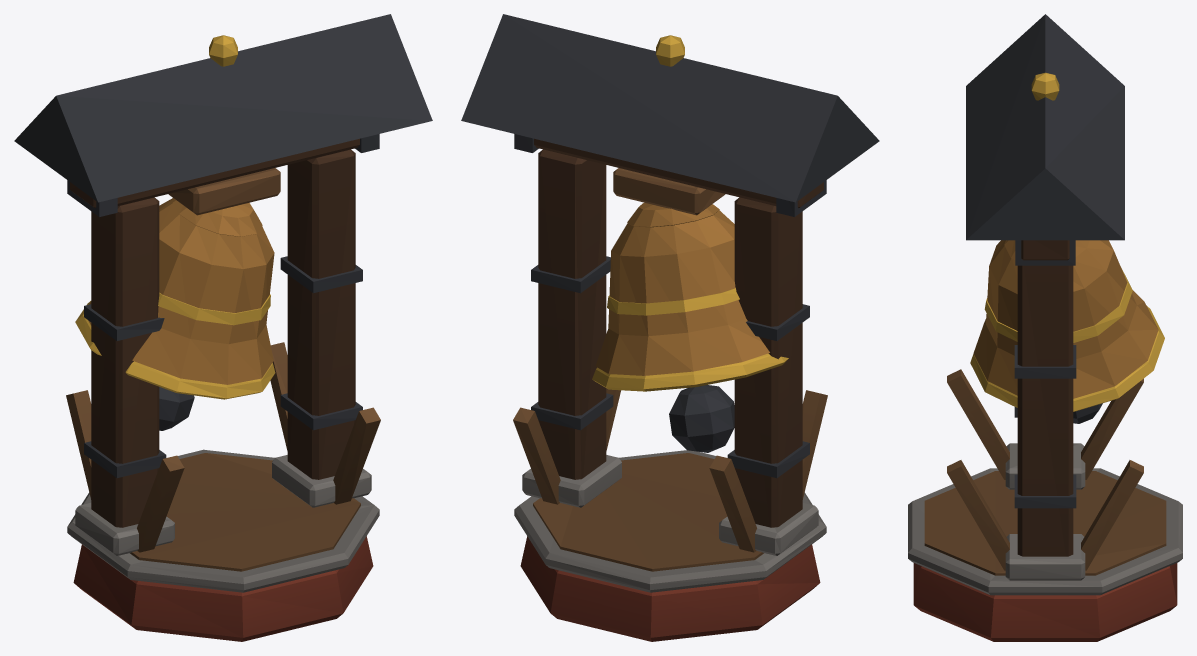
Rendered from great_clapper.glb.
3 views of the same model, side by side, from view 1: azimuth 30°, elevation 25°; view 2: azimuth 150°, elevation 25°; view 3: azimuth 270°, elevation 25° (orthographic). The views are drawn at different scales.
Visible parts, largest first — view 1: great_clapper; view 2: great_clapper; view 3: great_clapper.
Part boxes in pixels (bbox=[...]): great_clapper: bbox=[14, 14, 432, 641]; great_clapper: bbox=[461, 14, 879, 641]; great_clapper: bbox=[908, 14, 1182, 641].
Size of the model in its own units: 0.92 by 1.43 by 0.6929.
